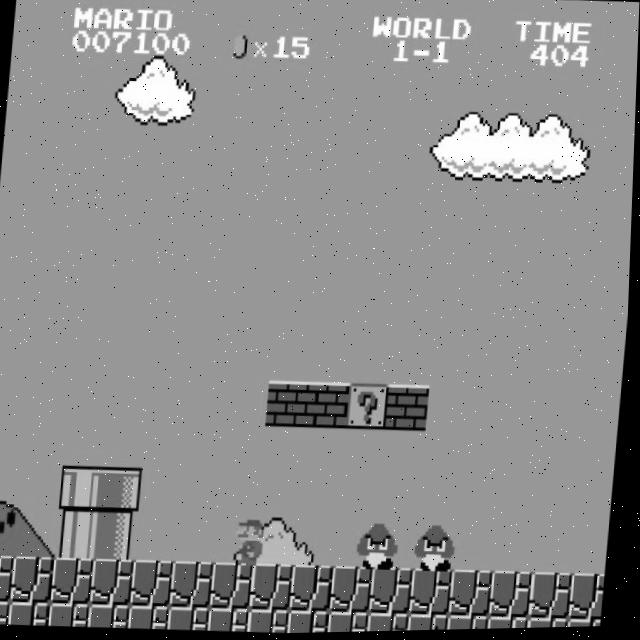1- brick_block: (268, 381, 313, 430), (388, 385, 433, 434), (308, 383, 353, 431)
11- little_mario: (229, 517, 277, 569)
13- mystery_block: (348, 384, 393, 433)
14- pipe: (58, 511, 103, 560), (98, 512, 143, 561)
15- pipe_head: (101, 467, 146, 515), (62, 465, 106, 514)
17- undestructible_block: (54, 557, 99, 606), (94, 558, 139, 607), (174, 561, 219, 610), (293, 565, 338, 614), (373, 568, 418, 617), (453, 571, 498, 620), (493, 572, 538, 621), (14, 556, 59, 604), (134, 560, 179, 608), (333, 567, 378, 615), (413, 570, 458, 618), (533, 574, 578, 622), (254, 564, 298, 613), (214, 563, 258, 611), (573, 575, 609, 623), (12, 601, 55, 627), (92, 604, 135, 630), (132, 605, 175, 631), (172, 606, 215, 632), (212, 608, 255, 634), (52, 603, 95, 628), (252, 610, 295, 635), (291, 611, 334, 635), (331, 612, 374, 634), (0, 554, 19, 603), (371, 613, 414, 633), (411, 615, 454, 632), (451, 616, 494, 632), (491, 617, 534, 631), (531, 619, 574, 630), (0, 599, 16, 625), (571, 620, 606, 630)
8- goomba: (357, 522, 404, 573), (415, 524, 462, 575)
